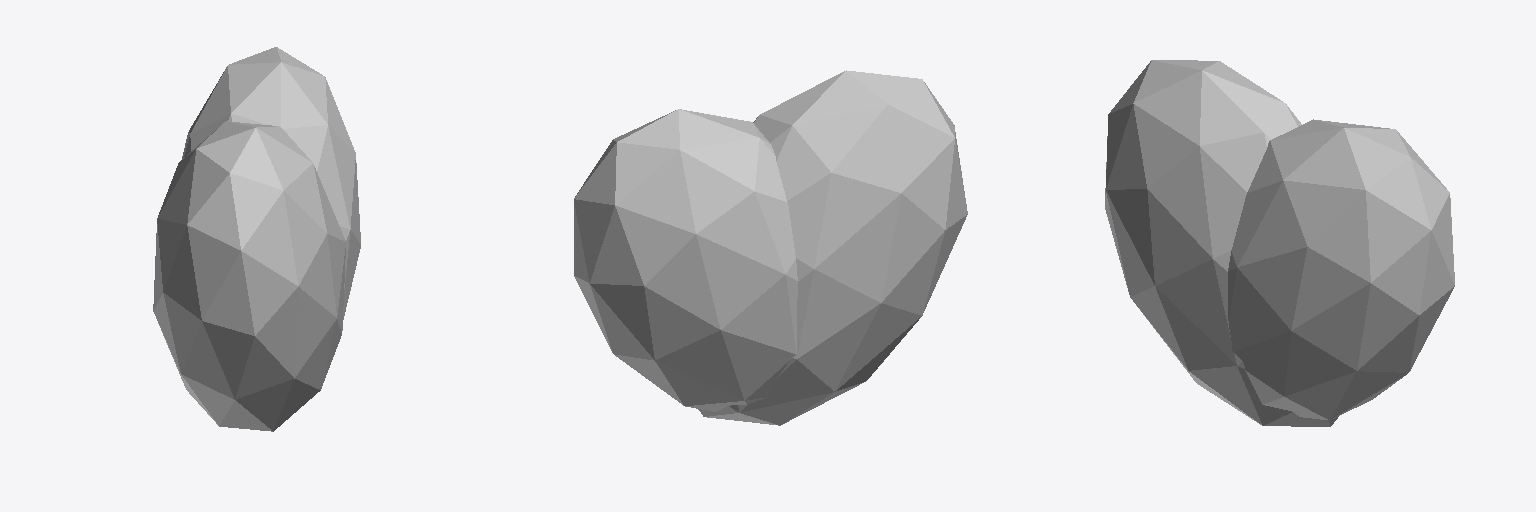
The model's file is crimheart.obj.
The picture shows the model from 3 angles: view 1: azimuth 30°, elevation 25°; view 2: azimuth 150°, elevation 25°; view 3: azimuth 270°, elevation 25°; orthographic projection.
Visible parts, largest first — view 1: Icosphere.001, Icosphere; view 2: Icosphere, Icosphere.001; view 3: Icosphere, Icosphere.001.
Boxes of the visible parts, x1=… form: Icosphere.001: x1=153, y1=121, x2=345, y2=431; Icosphere: x1=182, y1=47, x2=360, y2=319; Icosphere: x1=574, y1=109, x2=797, y2=411; Icosphere.001: x1=698, y1=70, x2=967, y2=425; Icosphere: x1=1228, y1=119, x2=1454, y2=420; Icosphere.001: x1=1105, y1=60, x2=1338, y2=426.
Size of the model in its own units: 0.6698 by 0.7891 by 0.7522.